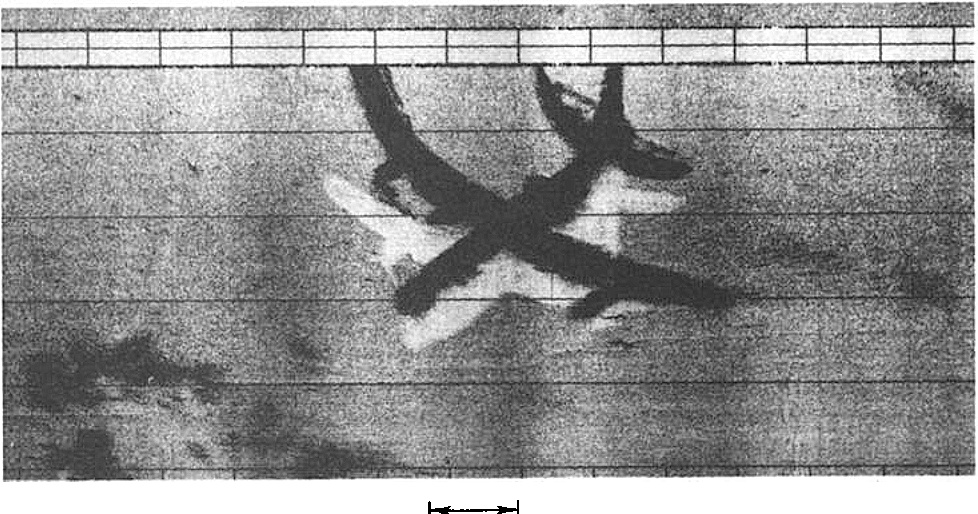aircraft: (321, 160, 689, 357)
